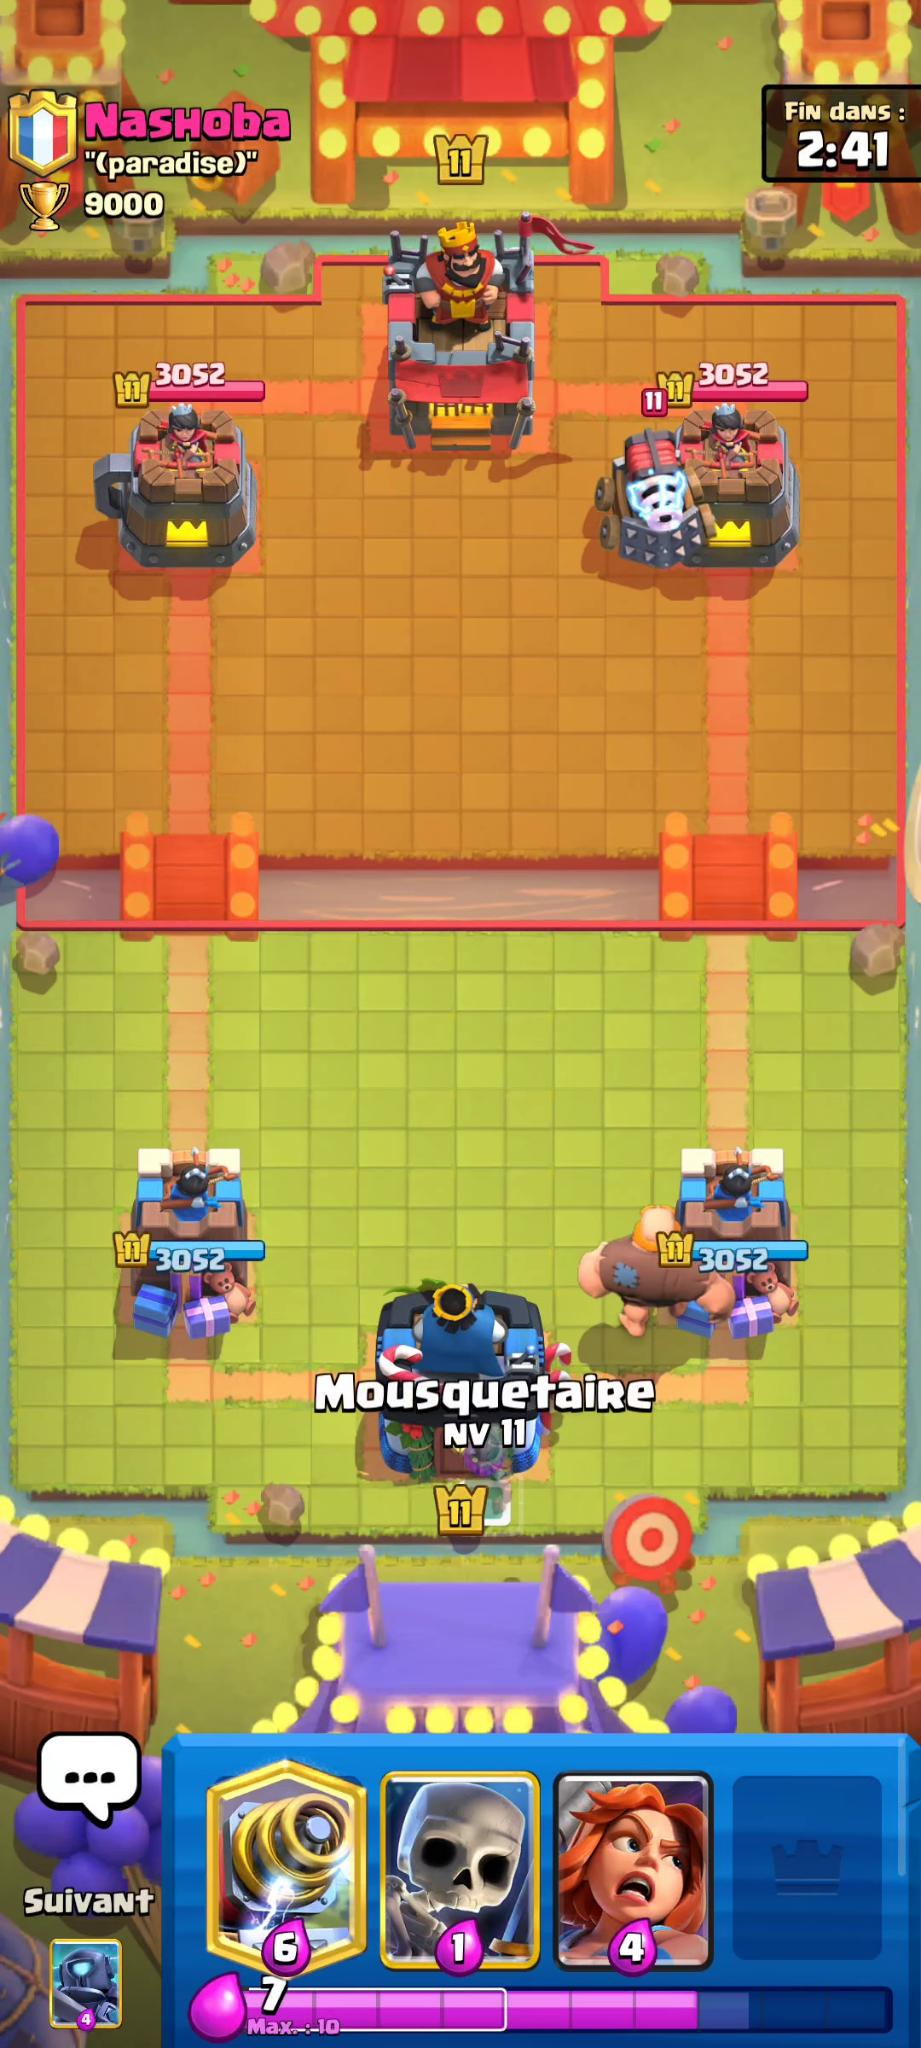zappy: (594, 427, 704, 556)
